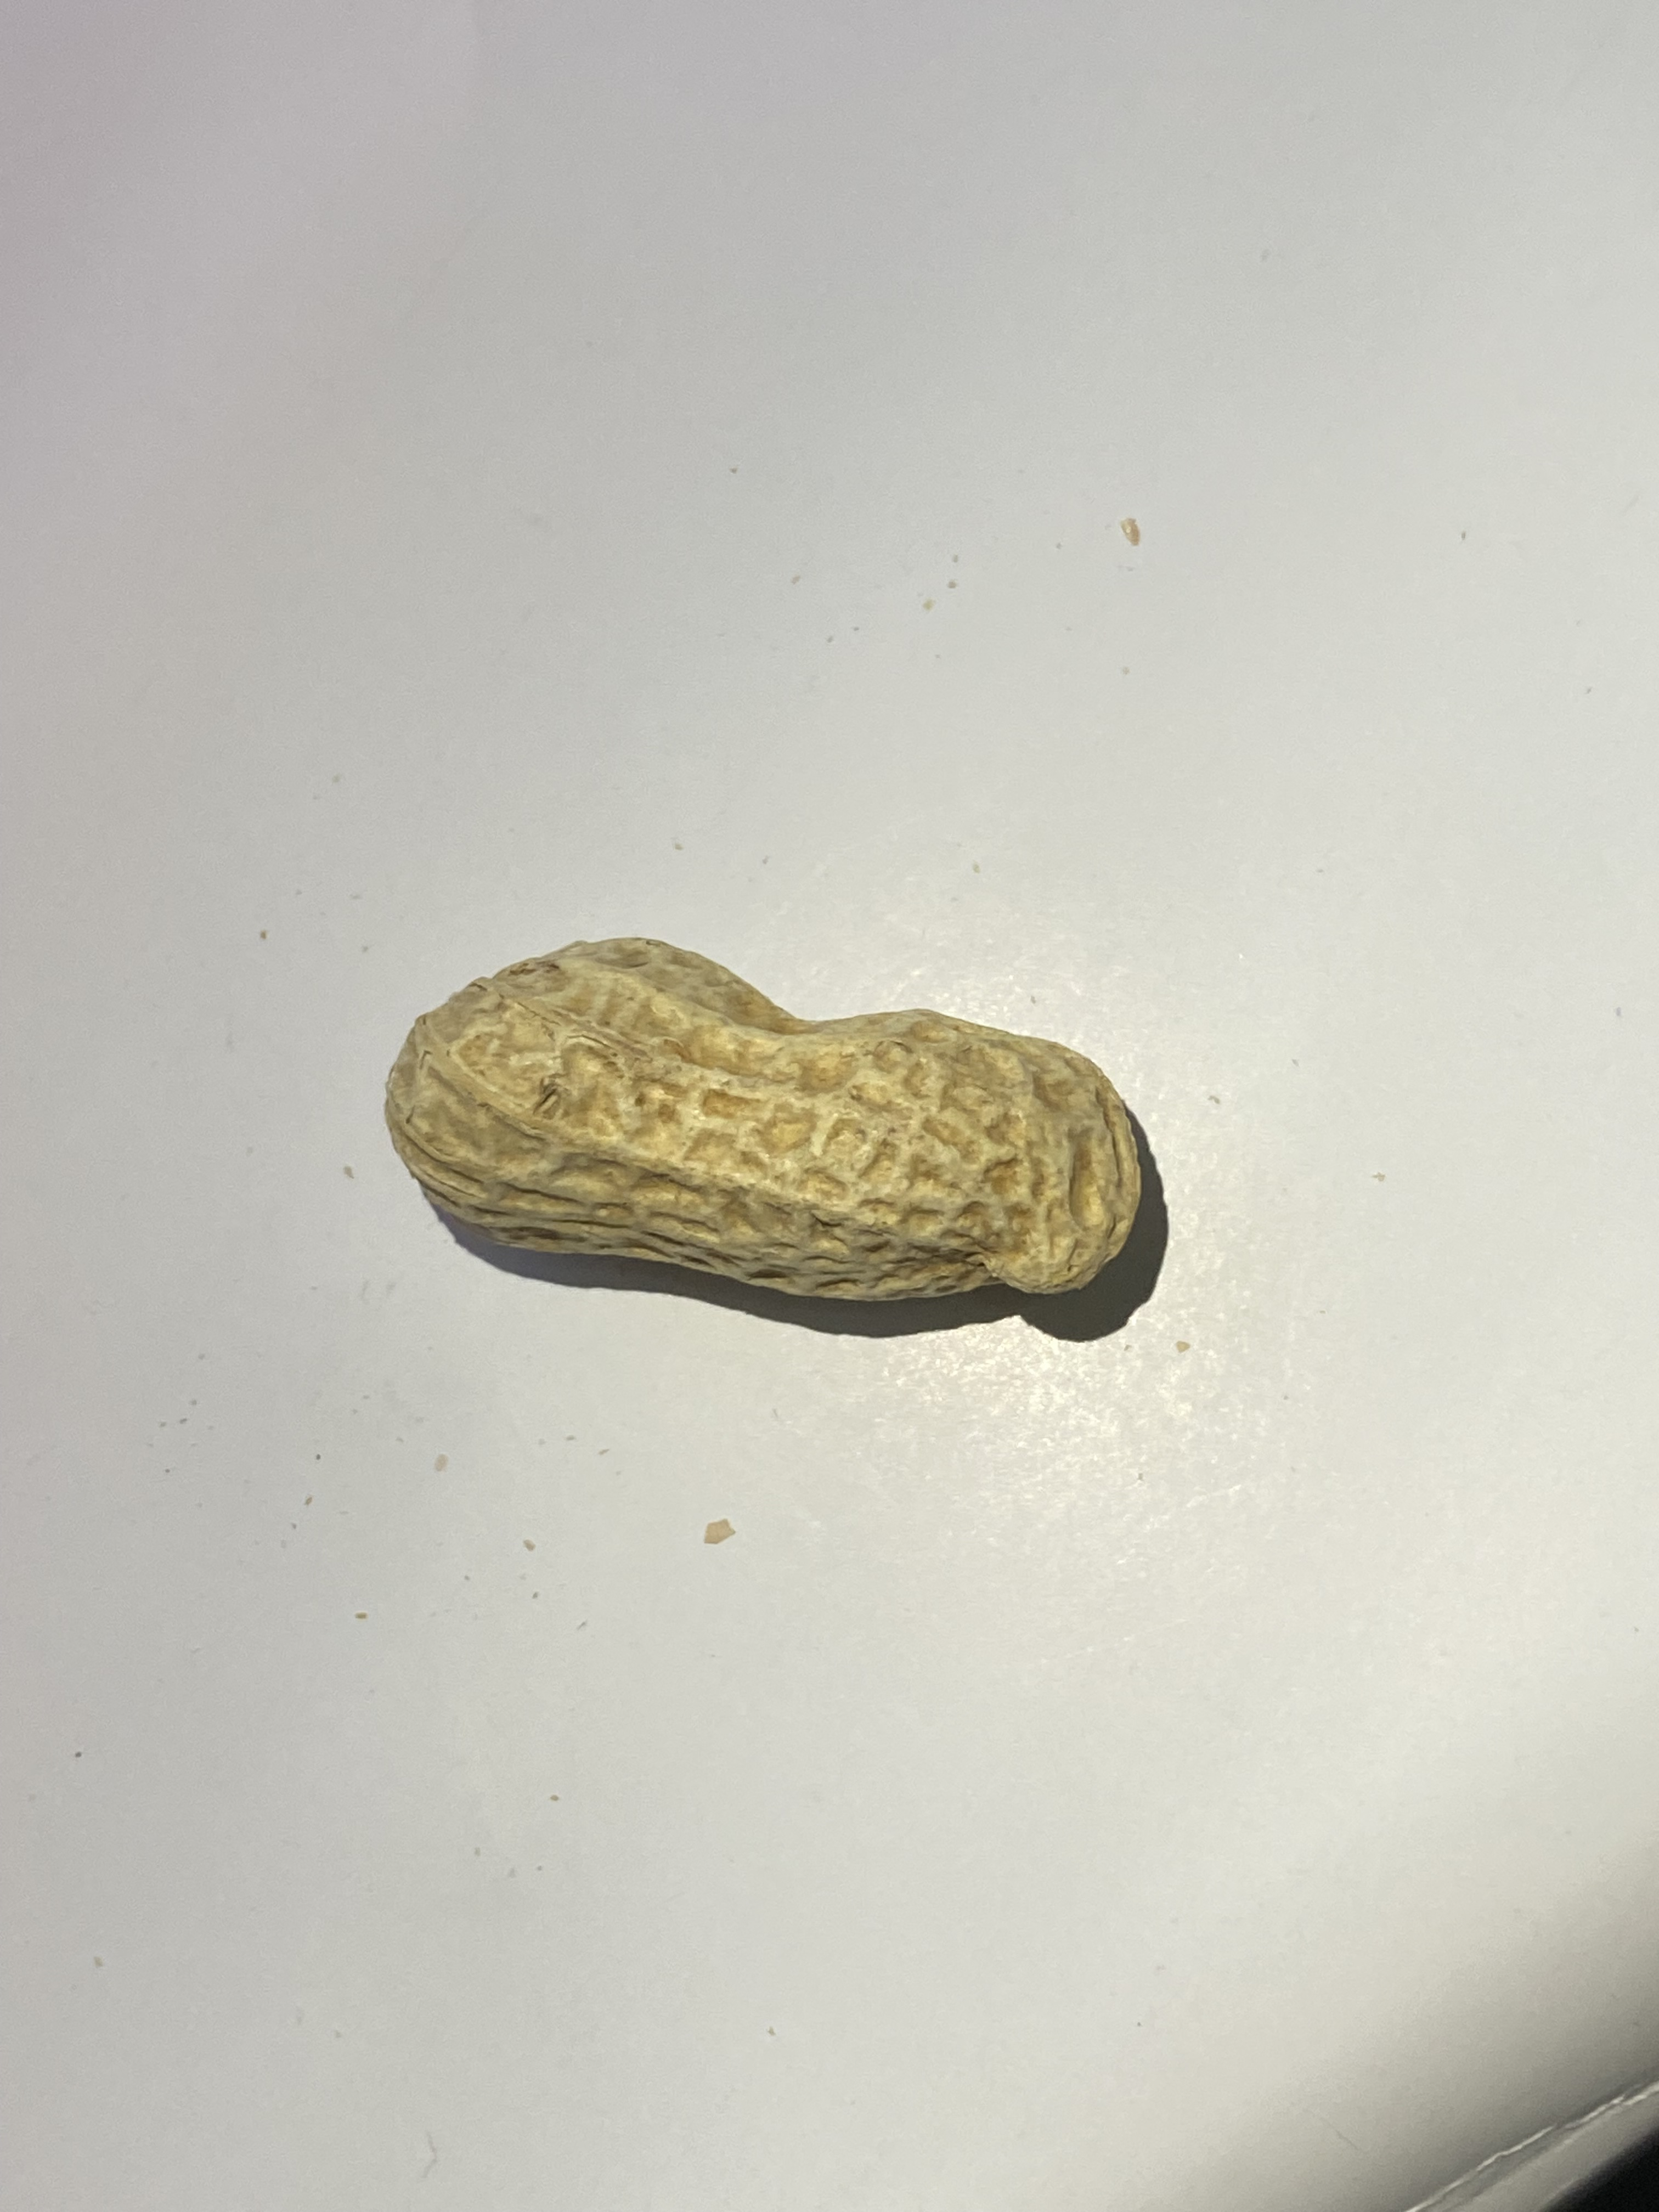kacang2: (347, 934, 1194, 1343)
